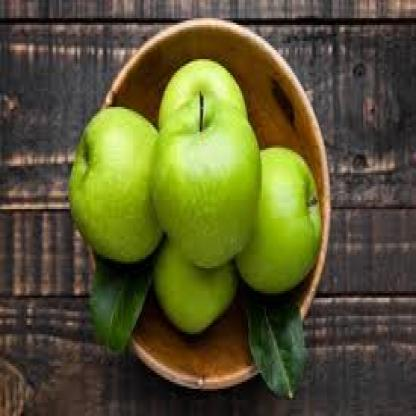apple: (156, 102, 260, 264), (233, 144, 321, 286), (74, 107, 160, 248), (147, 223, 236, 325), (154, 57, 251, 143)
